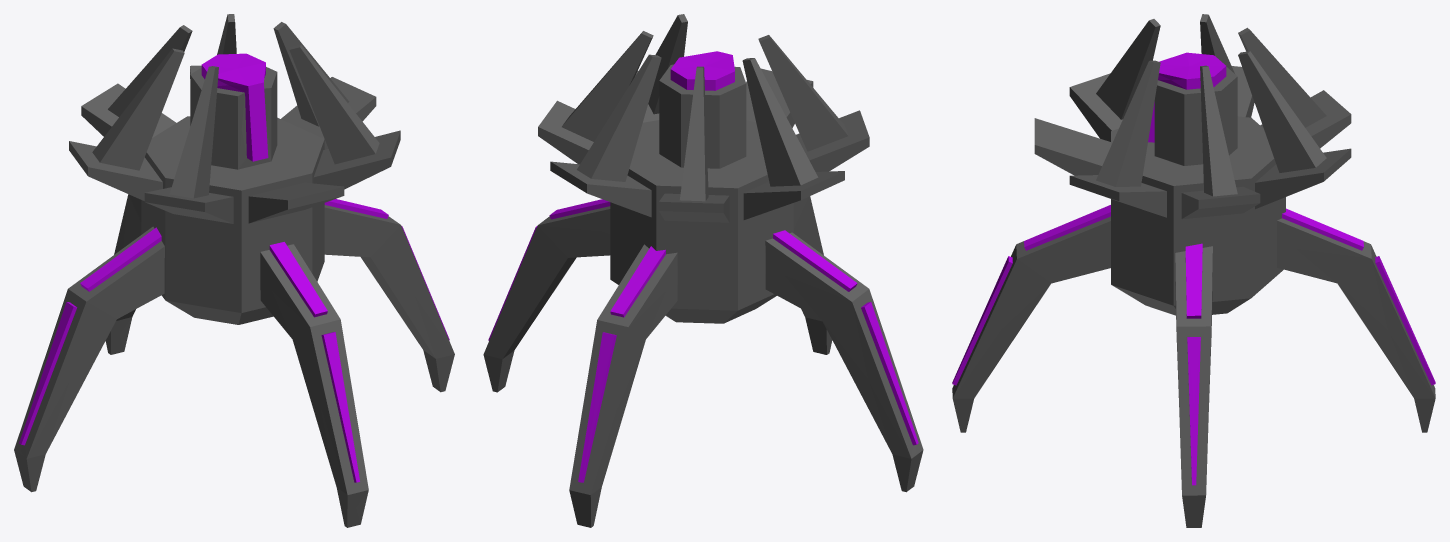
File: ground_enemies_2.fbx
3 renders of one model, left to right at view 1: azimuth 30°, elevation 25°; view 2: azimuth 150°, elevation 25°; view 3: azimuth 270°, elevation 25°, orthographic. The views are drawn at different scales.
Parts seen in each view (by area): view 1: ground_enemies_2; view 2: ground_enemies_2; view 3: ground_enemies_2.
Boxes of the visible parts, bbox=[...] form: ground_enemies_2: bbox=[14, 14, 454, 527]; ground_enemies_2: bbox=[483, 14, 923, 527]; ground_enemies_2: bbox=[952, 14, 1435, 527].
Size of the model in its own units: 273 by 242 by 273.
